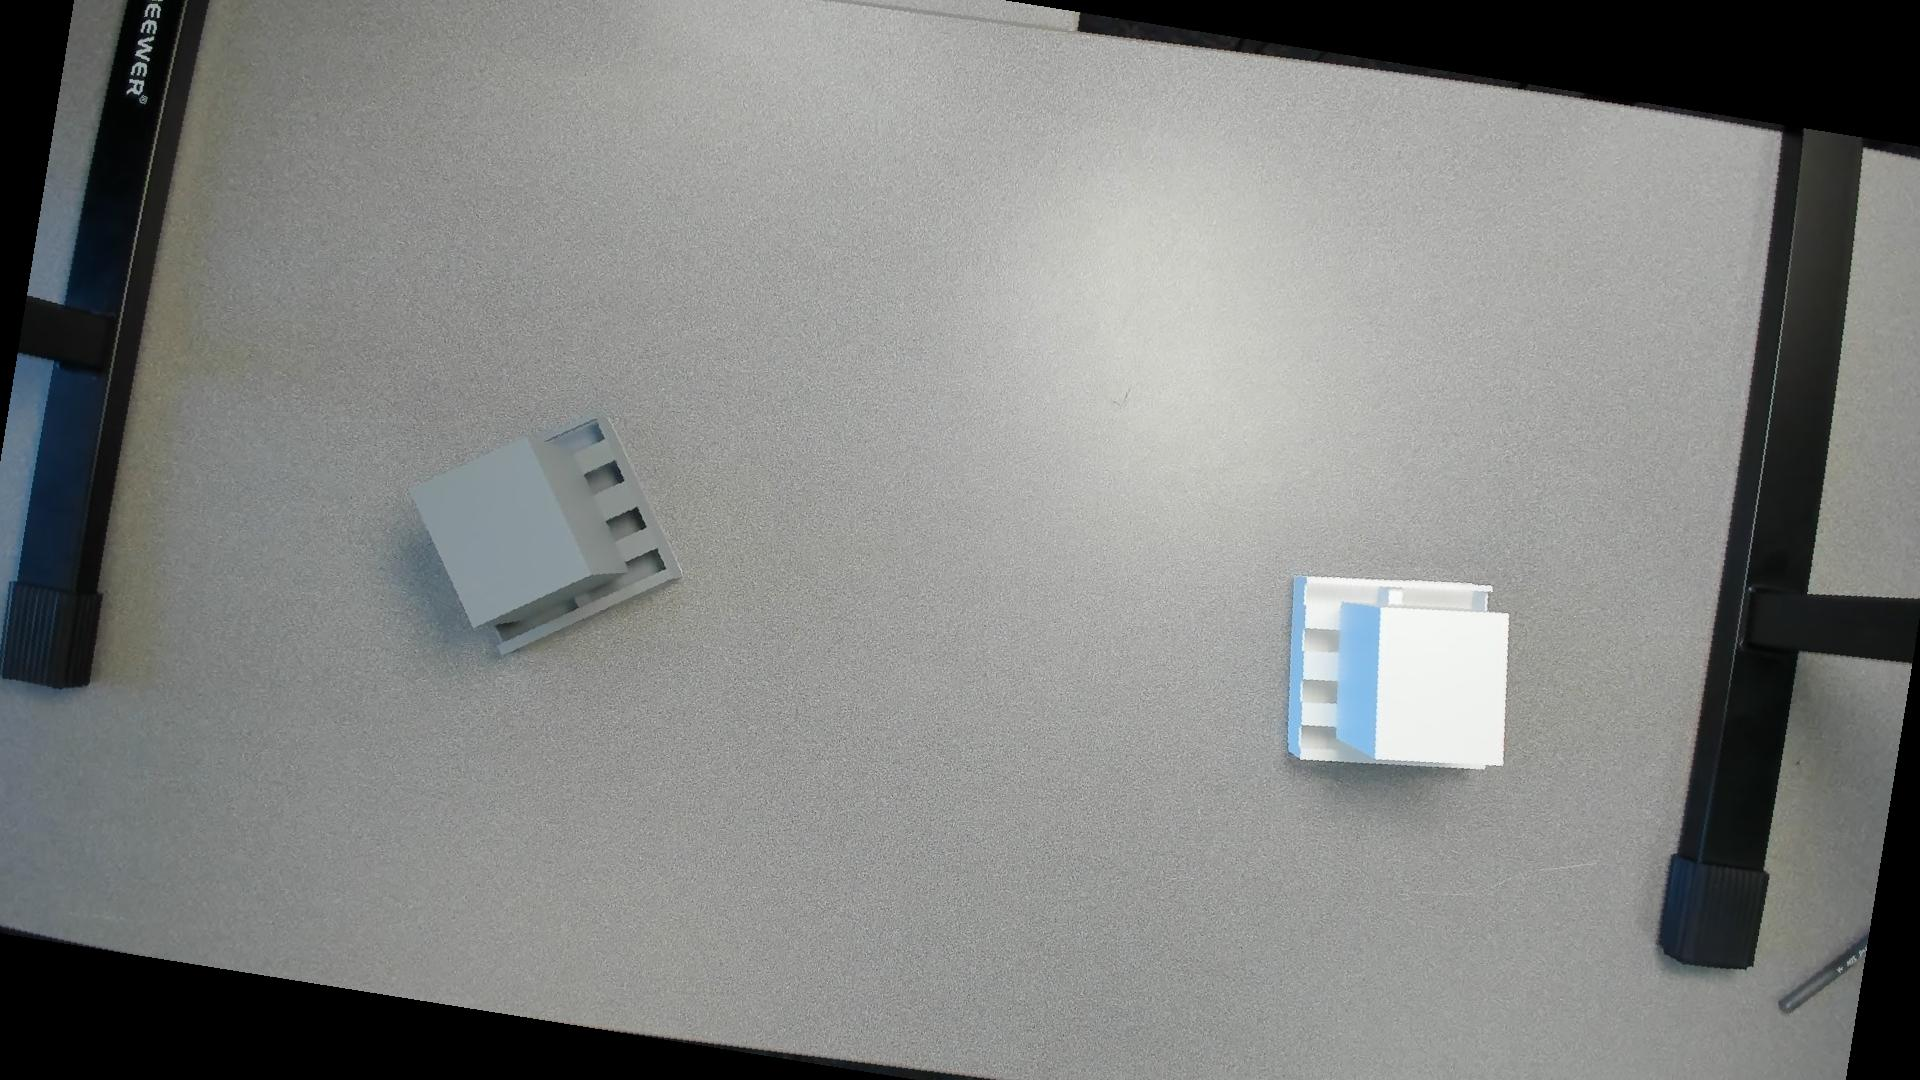grey pallet: (406, 411, 699, 678)
white pallet: (1284, 556, 1516, 800)
